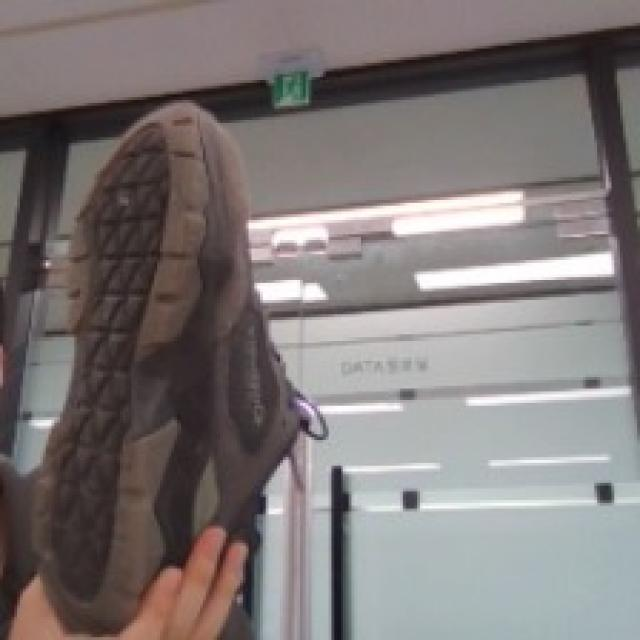shoe: (30, 99, 325, 640)
